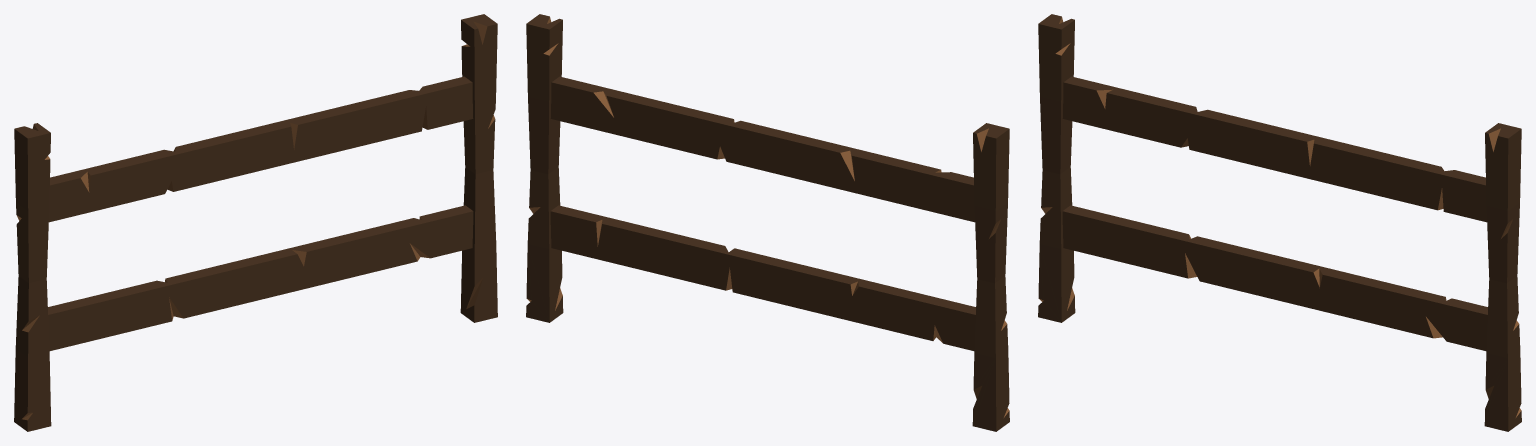
The model's file is Fence_1_Dark_Brown.fbx.
3 views of the same model, side by side, from view 1: azimuth 30°, elevation 25°; view 2: azimuth 150°, elevation 25°; view 3: azimuth 330°, elevation 25° (orthographic).
Parts seen in each view (by area): view 1: Fence_1_Dark_Brown; view 2: Fence_1_Dark_Brown; view 3: Fence_1_Dark_Brown.
Part boxes in pixels (x1,y1,x2,y2): Fence_1_Dark_Brown: (14, 14, 497, 431); Fence_1_Dark_Brown: (526, 14, 1009, 431); Fence_1_Dark_Brown: (1038, 14, 1521, 431).
Size of the model in its own units: 201 by 120 by 10.09.
